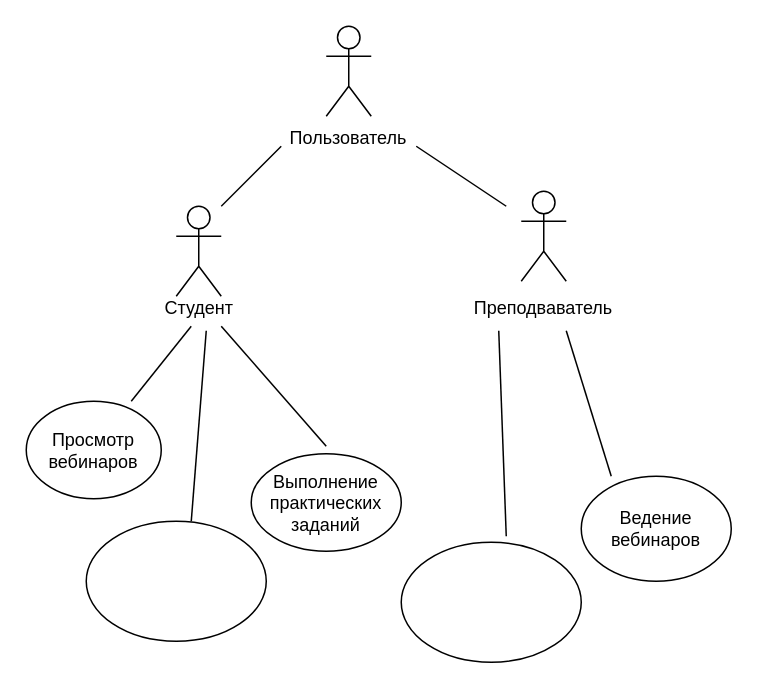
Some shapes in this 758 by 689 pixel diagram are drawn without their labels. Each missing label, with the centre of its shape:
Общение с одногруппниками: the point at 175,580
Проверка практических заданий: the point at 490,601
